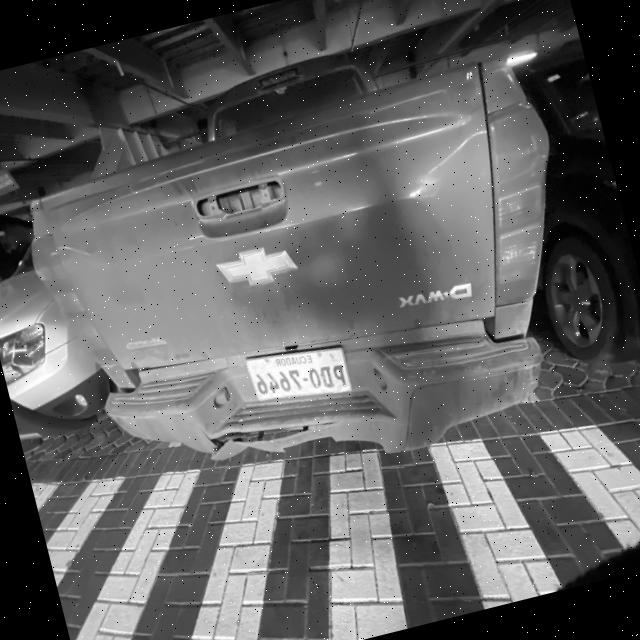Placa: (246, 348, 351, 400)
